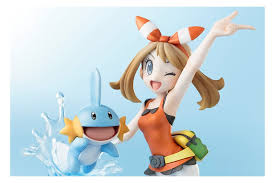mudkip: (44, 64, 134, 175)
